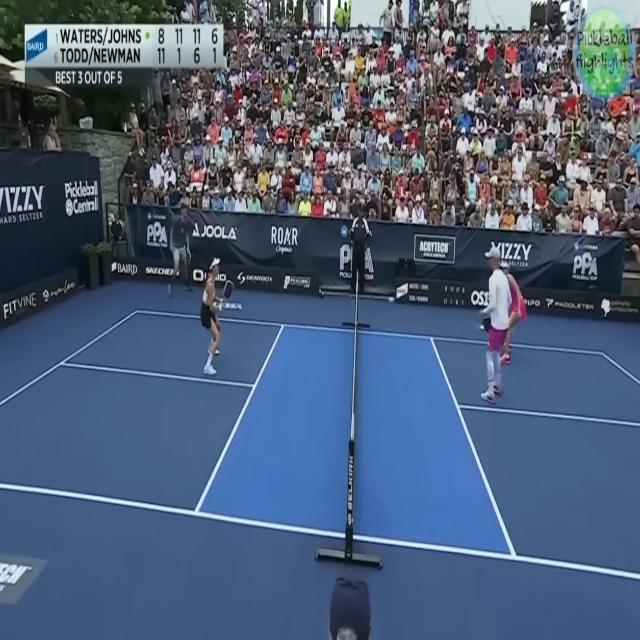Pickleball: (479, 321, 485, 332)
